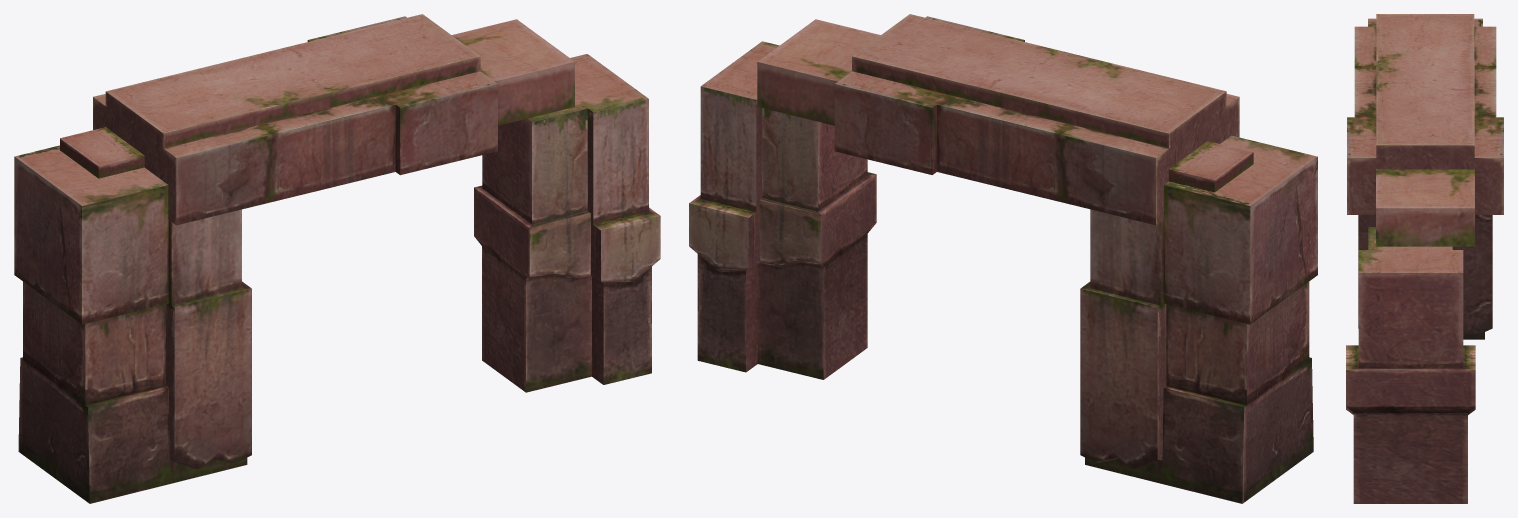
Rendered from yw_huanghunhupan_shiqiang03.FBX.
The picture shows the model from 3 angles, left to right: view 1: azimuth 30°, elevation 25°; view 2: azimuth 150°, elevation 25°; view 3: azimuth 270°, elevation 25°; orthographic projection. The views are drawn at different scales.
Visible parts, largest first — view 1: yw_huanghunhupan_shiqiang03; view 2: yw_huanghunhupan_shiqiang03; view 3: yw_huanghunhupan_shiqiang03.
Boxes of the visible parts, x1,y1,x2,y2 form: yw_huanghunhupan_shiqiang03: (14,14,660,503); yw_huanghunhupan_shiqiang03: (689,14,1317,503); yw_huanghunhupan_shiqiang03: (1346,14,1503,503).
Size of the model in its own units: 567 by 331 by 162.
